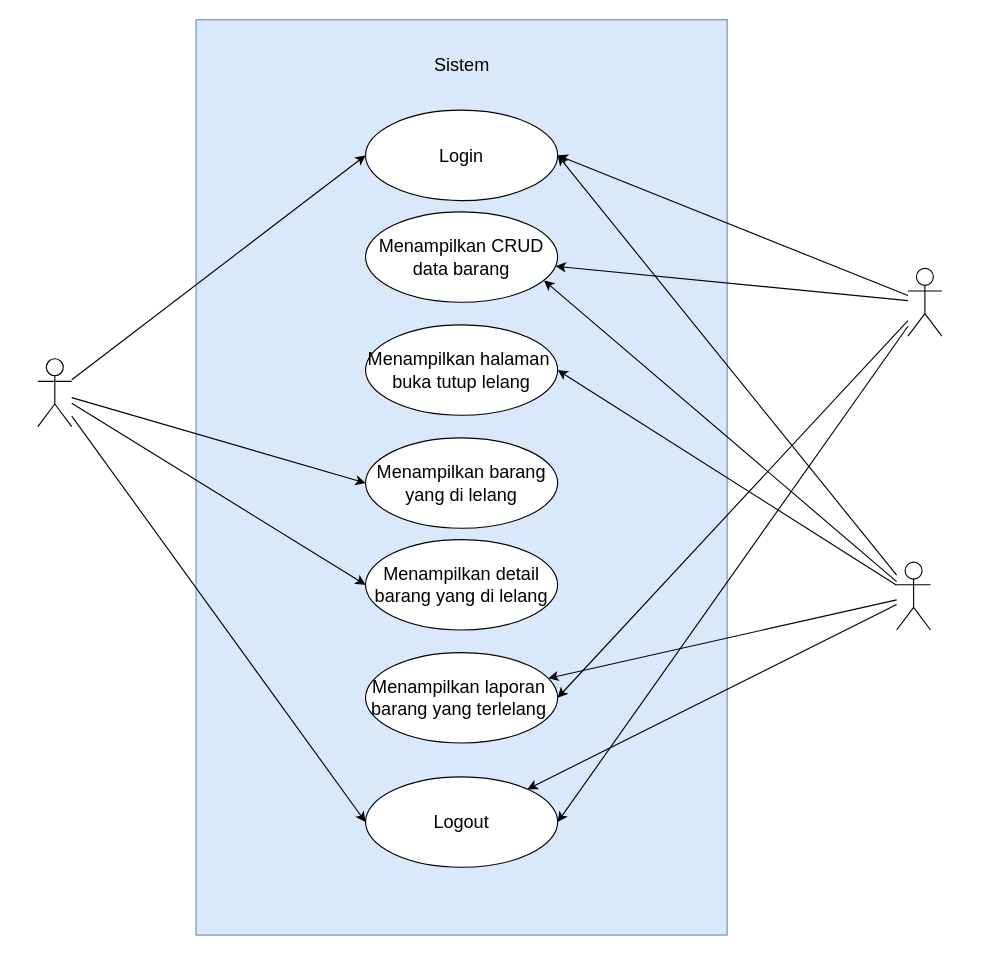
Some shapes in this 984 by 955 pixel diagram are drawn without their labels. The box of each missing label's shape, as (x1, y1, x2, y2) in pixels:
Administrator: (907, 267, 942, 336)
Masyarakat: (37, 358, 72, 427)
Staff: (896, 561, 931, 630)
